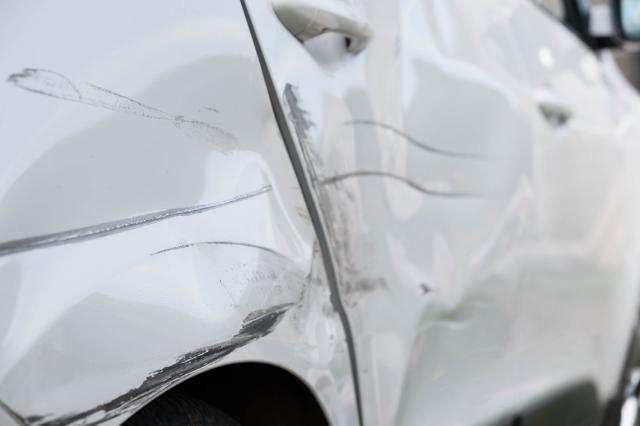dent: (0, 55, 355, 418), (285, 55, 522, 426)
scratch: (19, 340, 253, 426), (7, 66, 134, 113)
